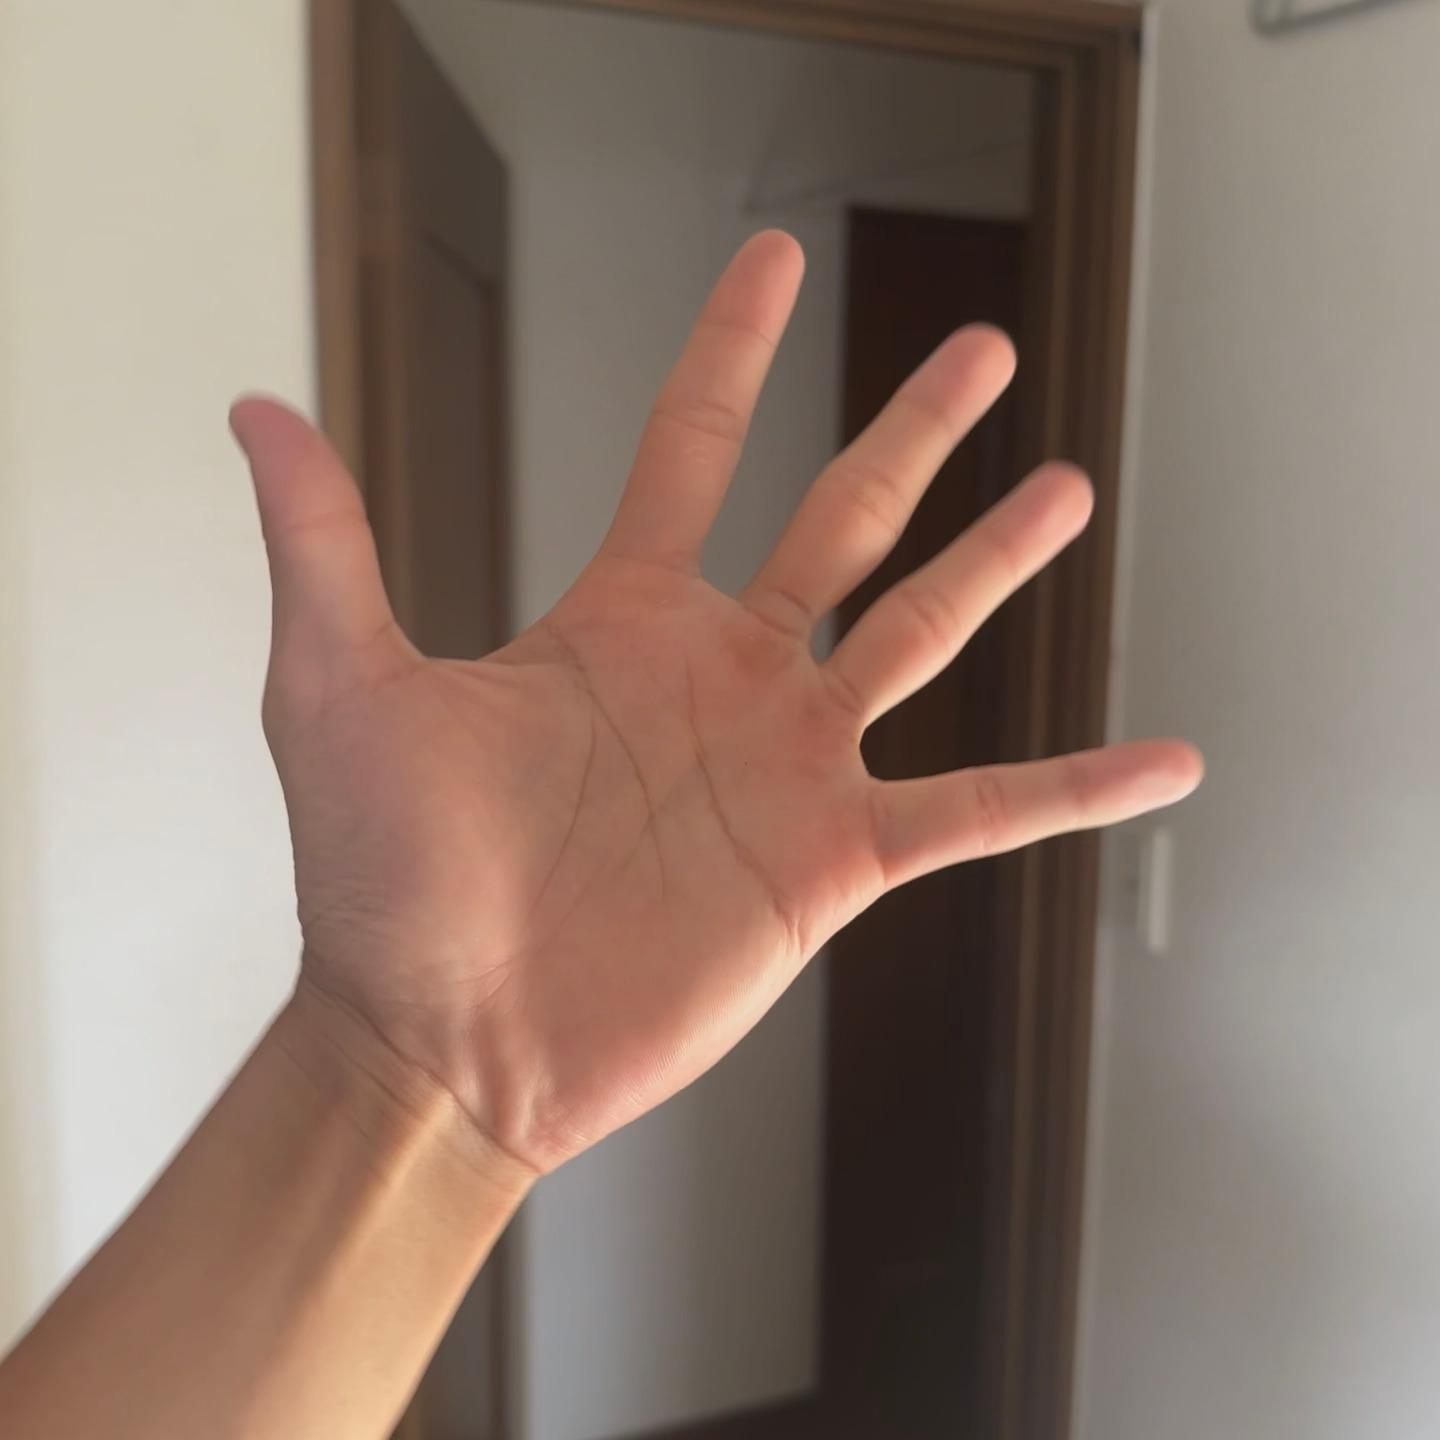without_gloves: (227, 248, 1352, 1126)
